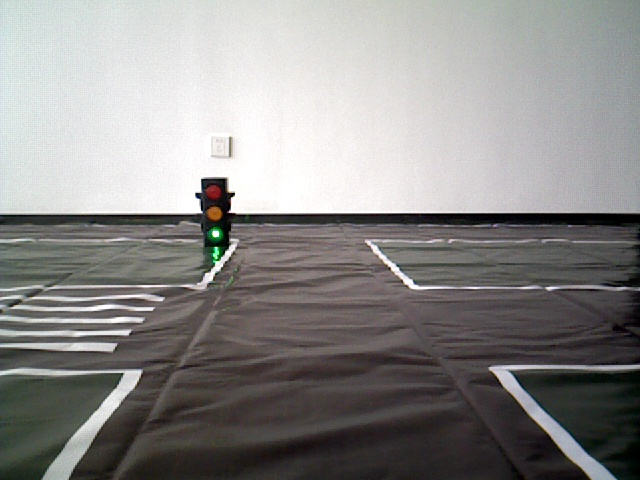green: (202, 181, 227, 240)
